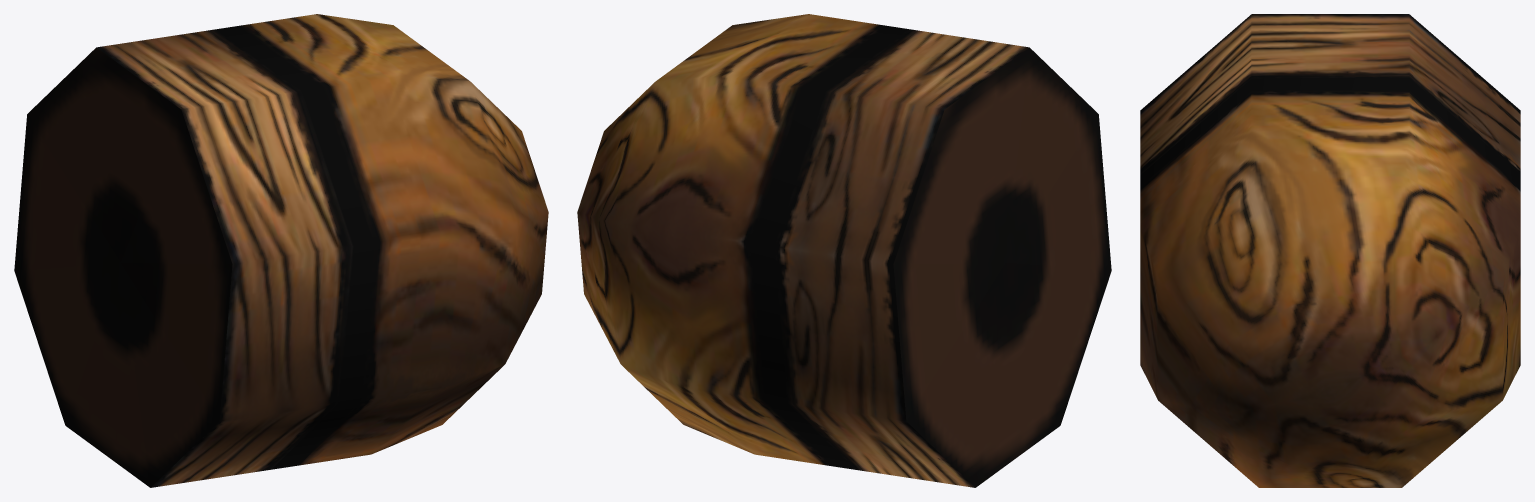
File: WP_0H_Fist01.FBX
3 views of the same model, side by side, from view 1: azimuth 30°, elevation 25°; view 2: azimuth 150°, elevation 25°; view 3: azimuth 270°, elevation 25° (orthographic). The views are drawn at different scales.
Parts seen in each view (by area): view 1: WP_0H_Fist01; view 2: WP_0H_Fist01; view 3: WP_0H_Fist01.
Part boxes in pixels (bbox=[...]): WP_0H_Fist01: bbox=[14, 14, 548, 487]; WP_0H_Fist01: bbox=[577, 14, 1111, 487]; WP_0H_Fist01: bbox=[1140, 14, 1520, 487].
Bounding box in the file's own units: 27.04 × 24.63 × 23.43.
Materials: 1 (1 with a texture image).
